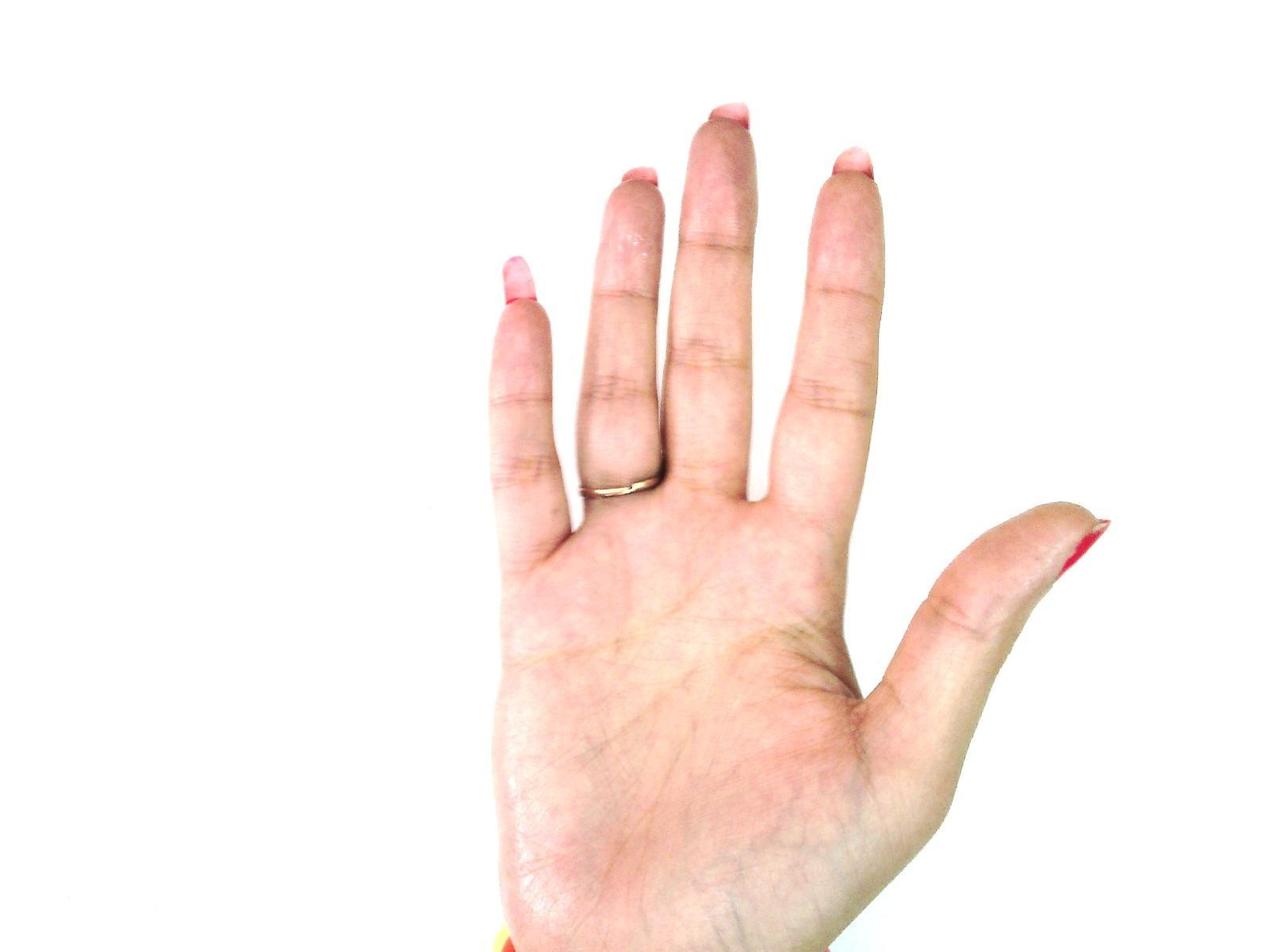open_palm: (482, 102, 1112, 951)
